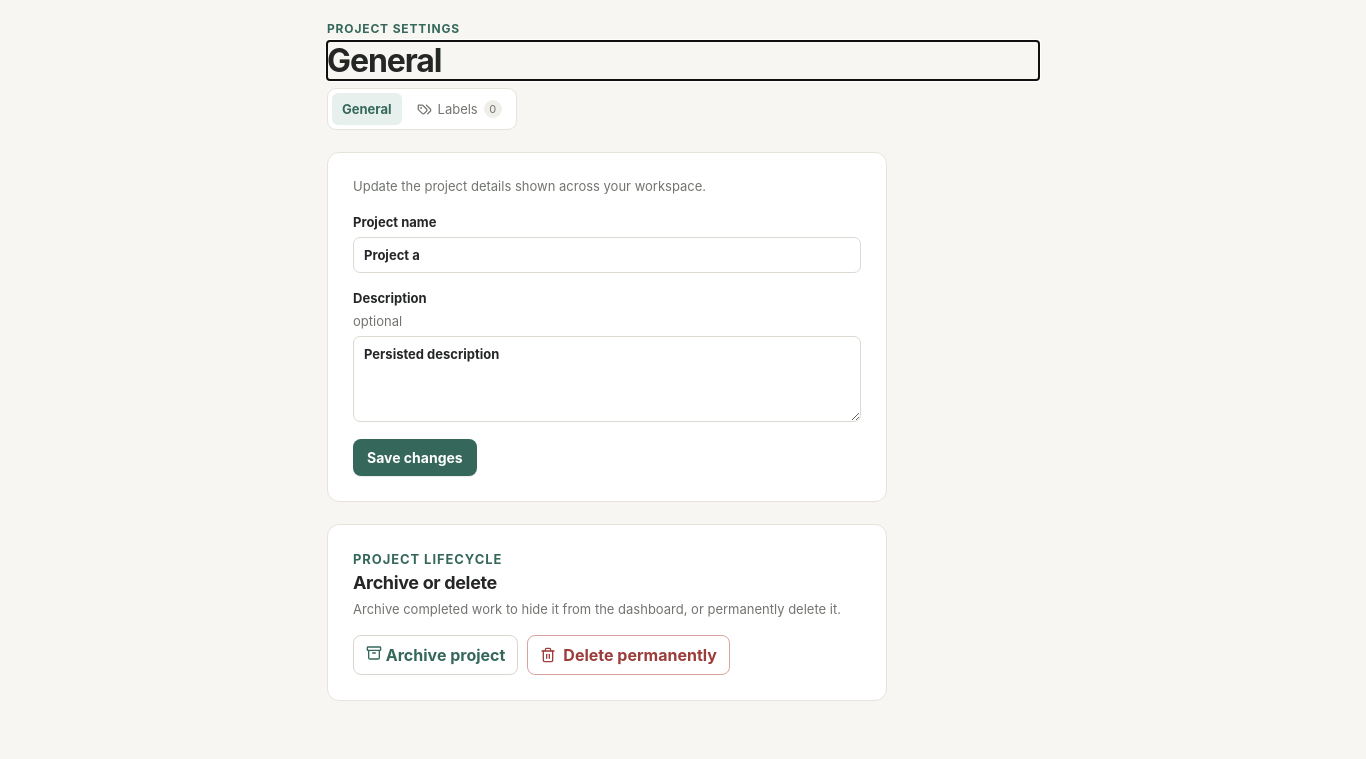
Scenario: retains reconciled archived cards when dashboard refresh fails
This screenshot has width=1366, height=759.
(page scrolled)
Click the button "Archive project" at point(436, 655), box [353,635,518,675]
(page scrolled)
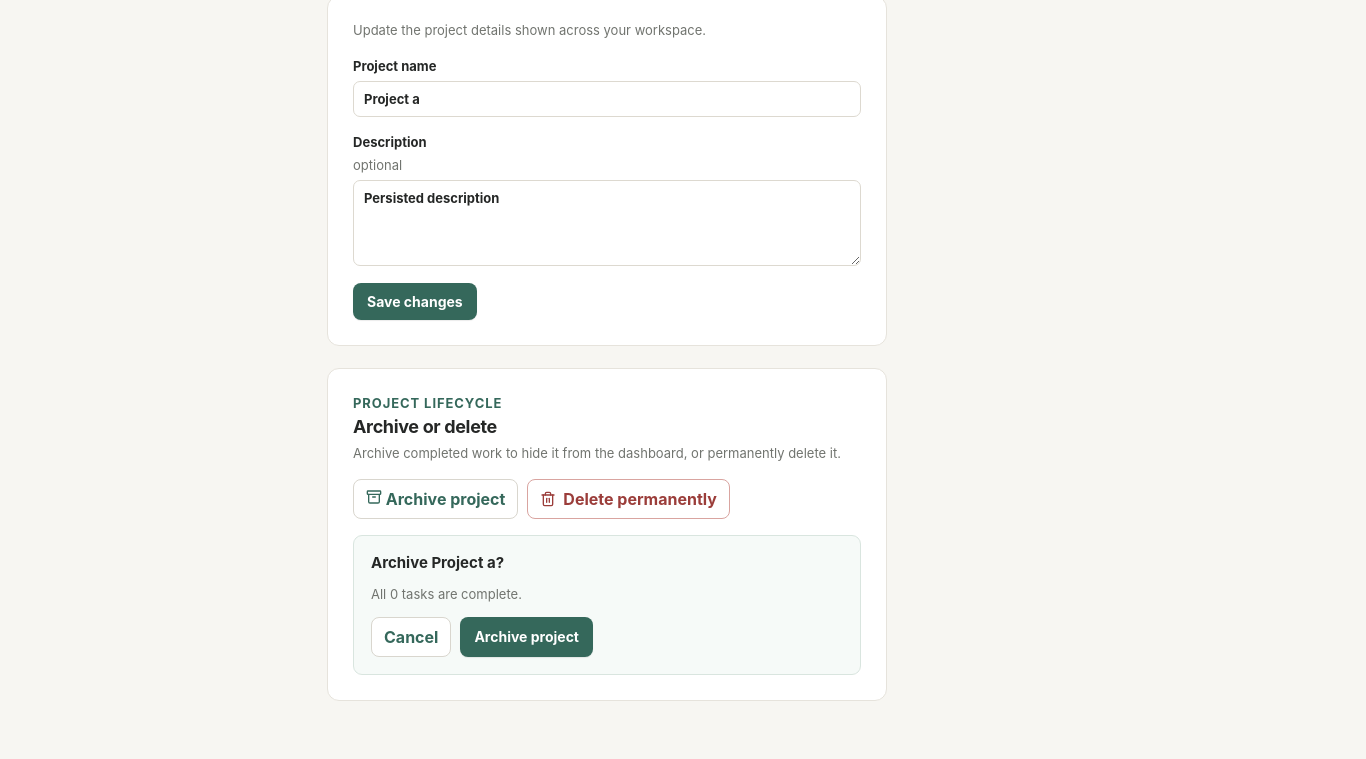
Click the button "Archive project" below "All 0 tasks are complete." at point(527, 636), box [460,616,593,656]
(page scrolled)
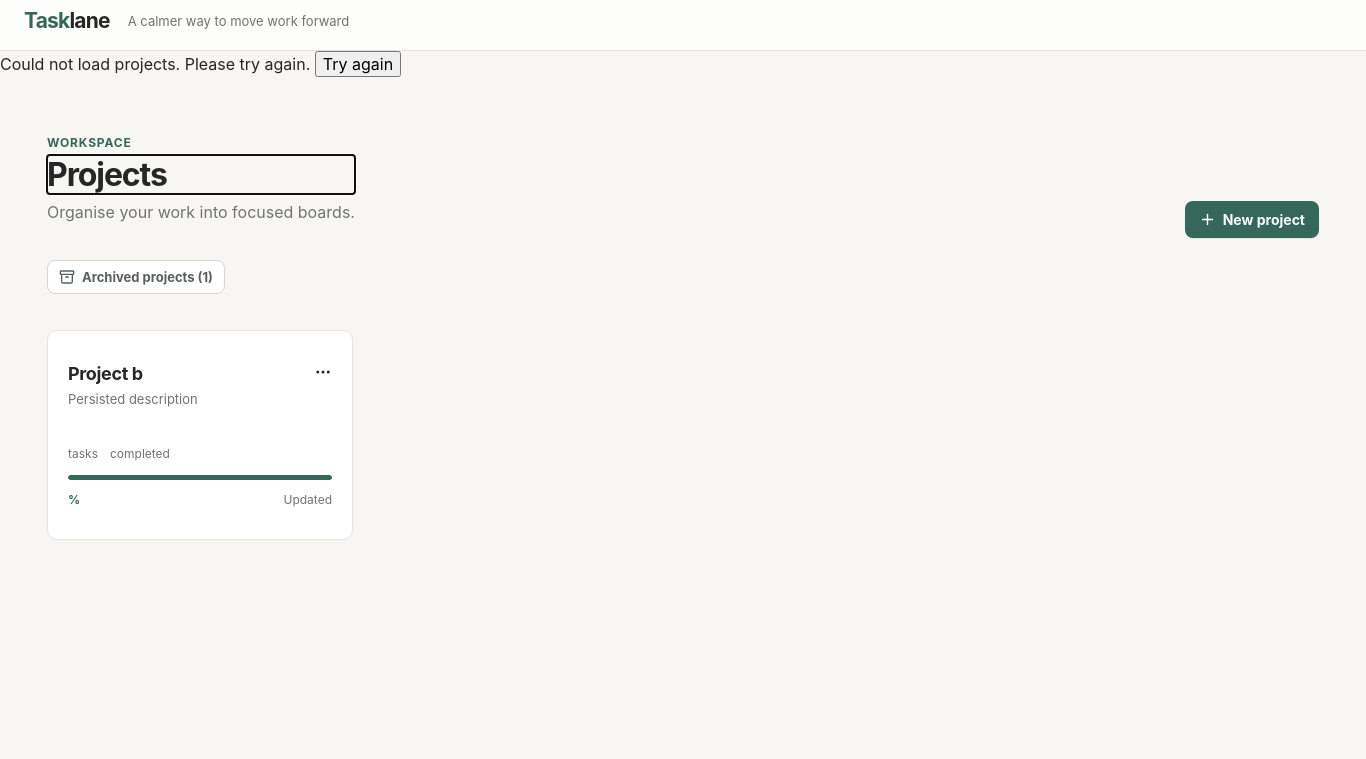
Expected: the heading "Projects" is shown, [47,155,167,194]
Click the button "Archived projects (1)" at point(136, 277), box [47,260,225,294]
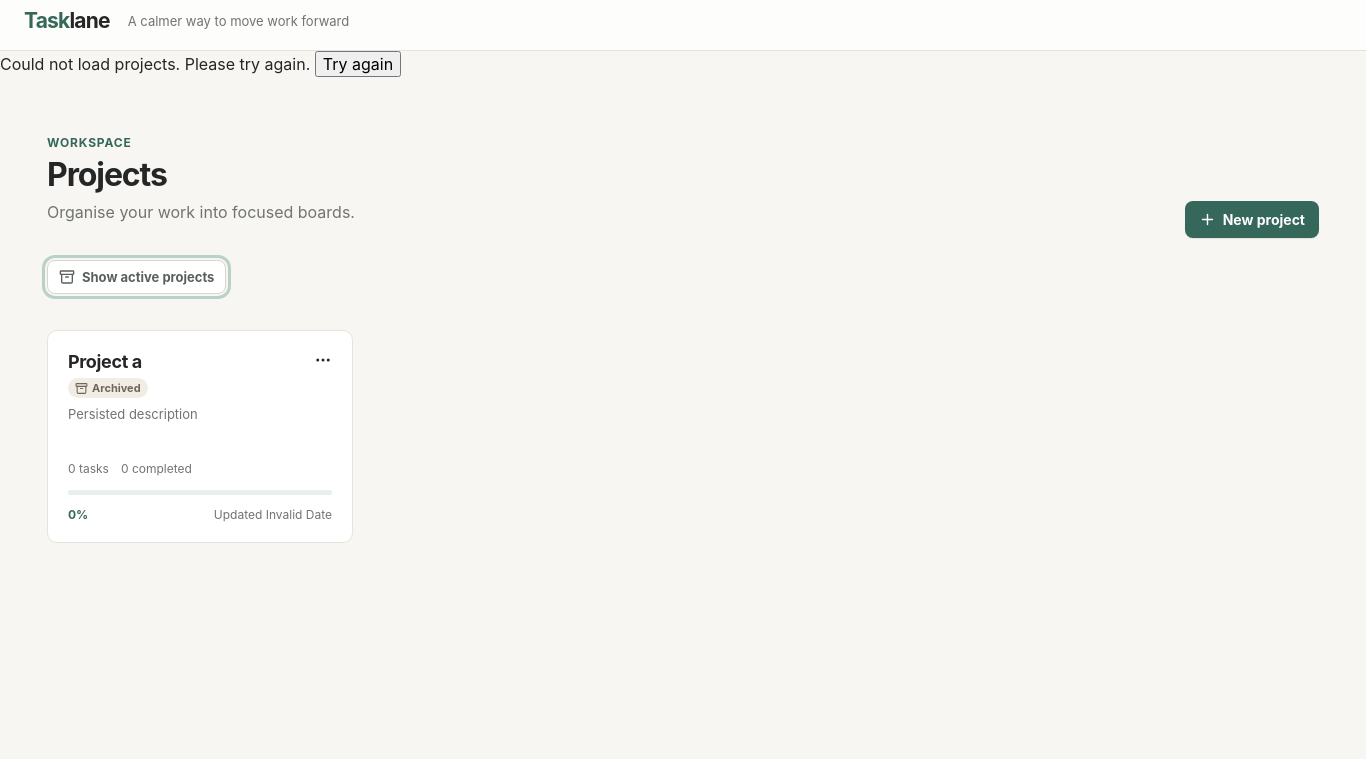
Expected: the button "Project a" is shown, [47,330,353,543]
